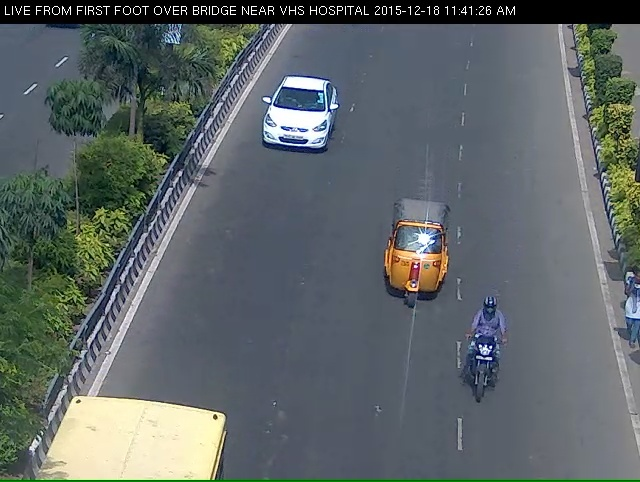Auto: (381, 211, 451, 330)
Car: (250, 83, 342, 170)
Person: (463, 334, 506, 449)
